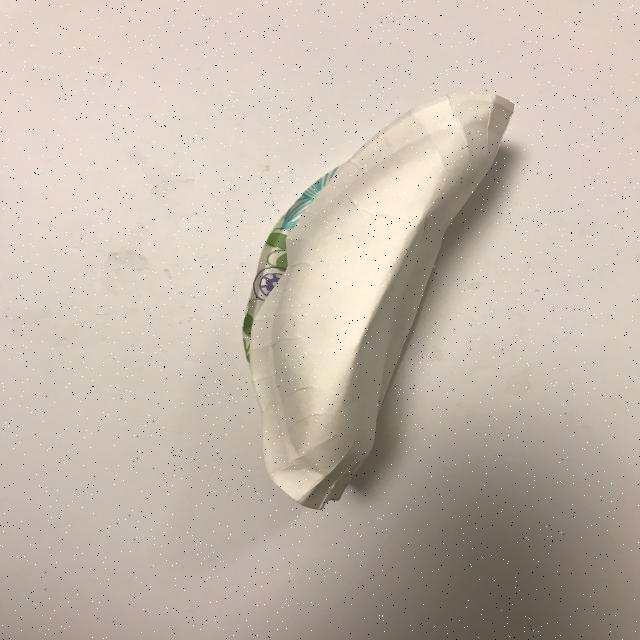paper: (241, 92, 515, 510)
